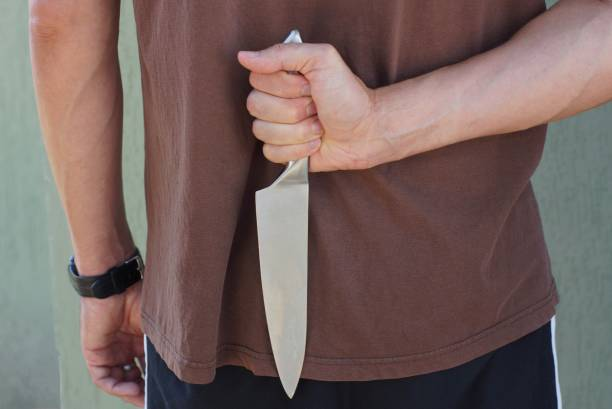knife: (252, 24, 311, 402)
